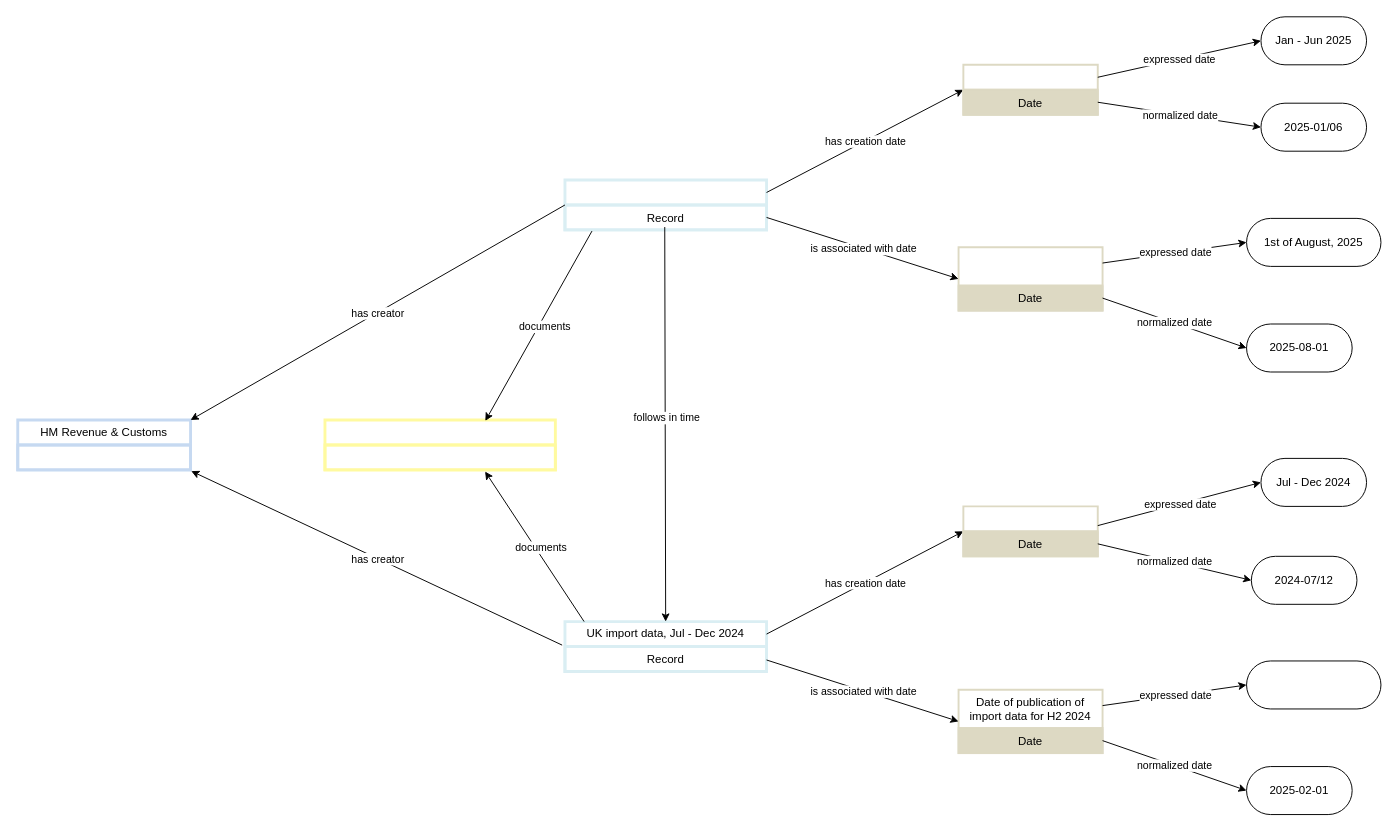
Some shapes in this 1398 by 831 pixel diagram are drawn without their labels. The shapes that lost their labels are listed below. From the top down, each one's box as (x1, y1, x2, y2) in pixels, then its label:
(962, 63, 1098, 115): H1 2025
(563, 178, 768, 231): UK import data, Jan - Jun 2025
(957, 246, 1103, 311): Date of publication of import data for H1 2025
(16, 443, 192, 471): Corporate Body
(323, 418, 556, 471): Importing of goods to the UK
(323, 443, 556, 471): Activity
(962, 505, 1098, 557): H2 2024
(1246, 660, 1381, 709): 1st of February, 2025
